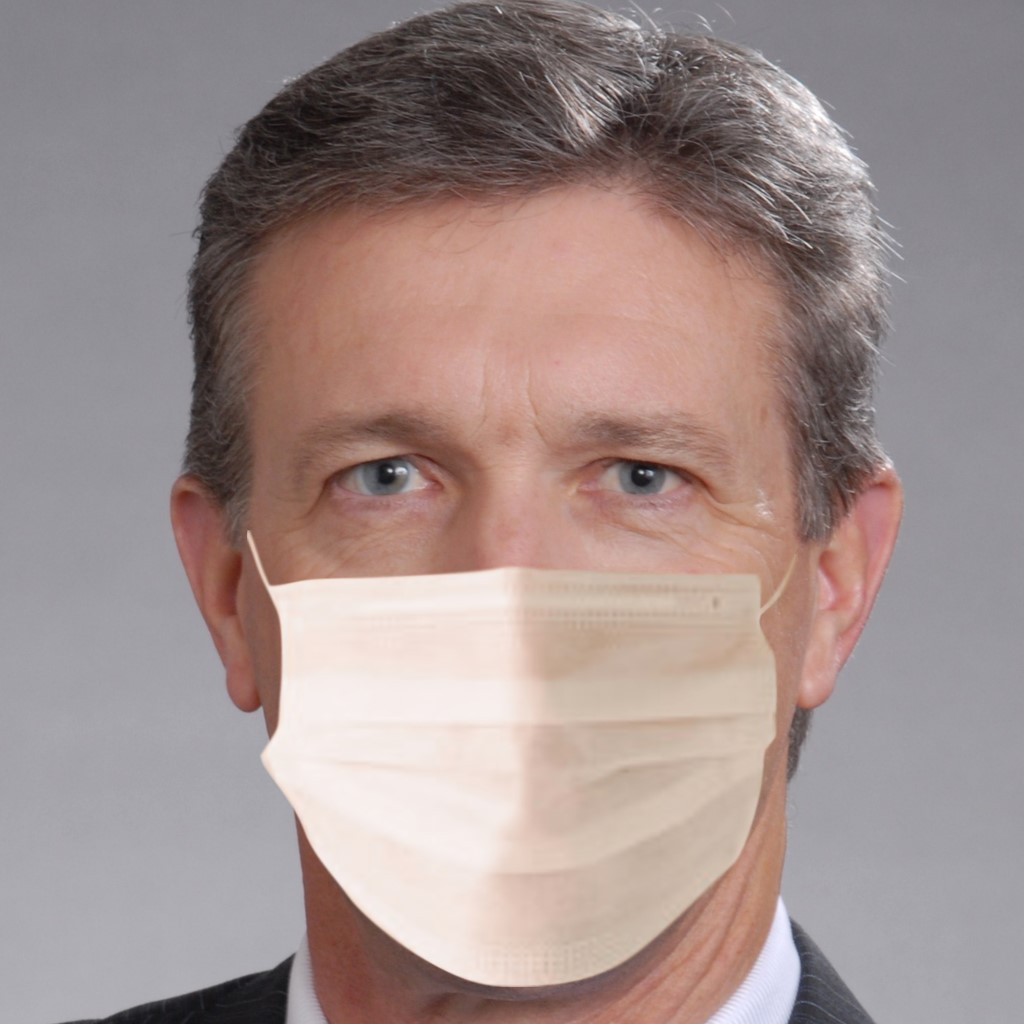con_mascara: (194, 98, 817, 964)
